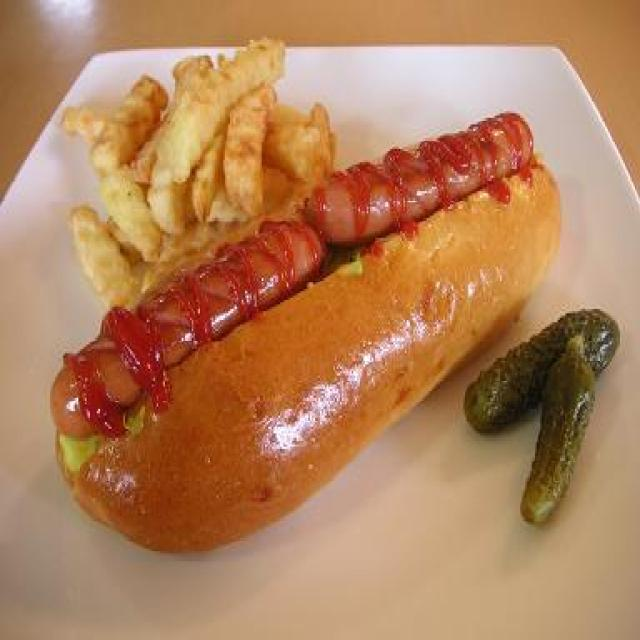Hot Dog: (49, 96, 576, 540)
